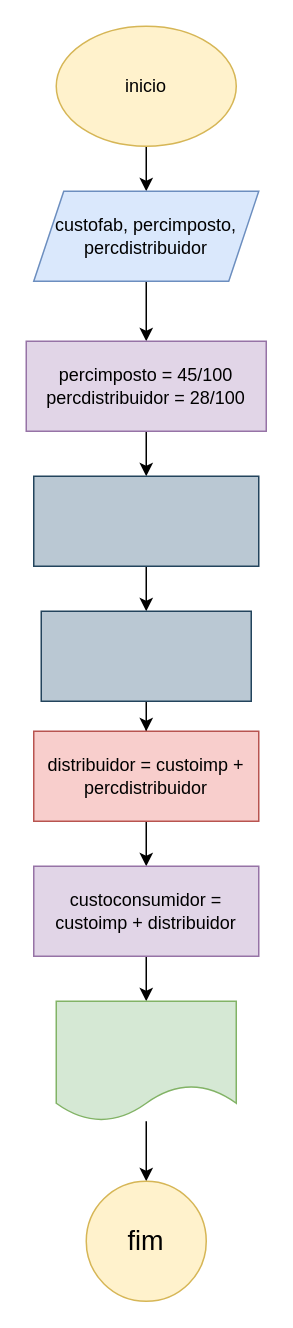
Some shapes in this 293 by 1328 pixel diagram are drawn without their labels. Each missing label, with the centre of its shape:
custoconsumidor: (x=145, y=1060)
custosimp = custofab + imposto: (x=145, y=655)
imposto = custofab * percimposto: (x=145, y=520)
